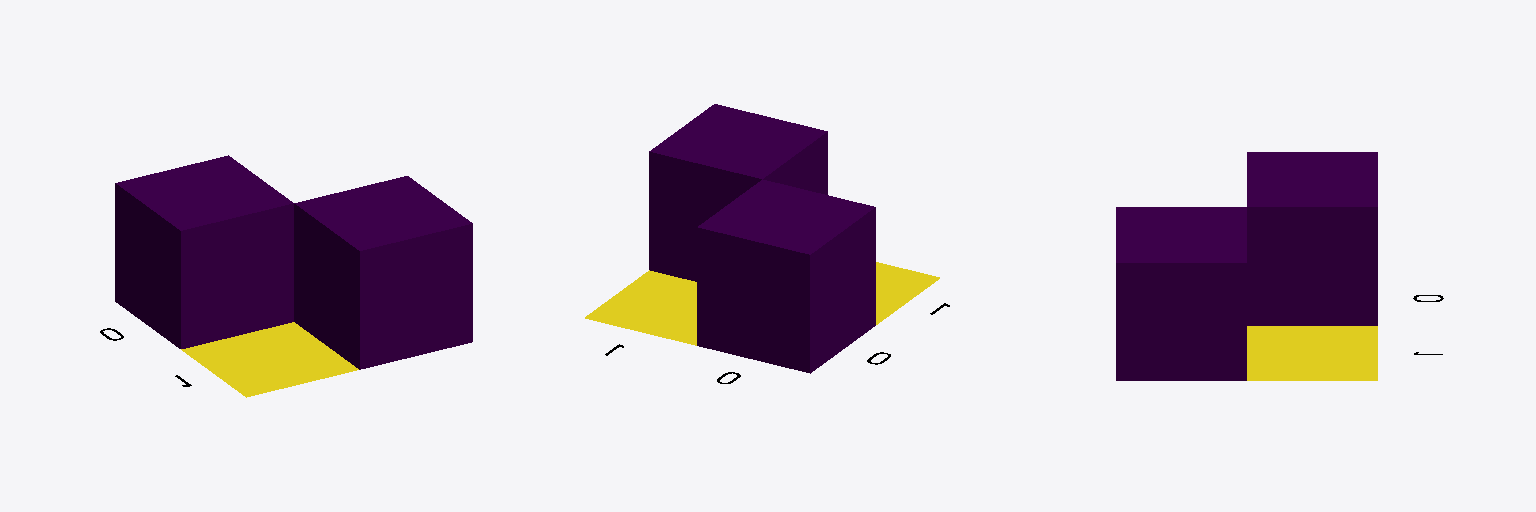
The picture shows the model from 3 angles: view 1: azimuth 30°, elevation 25°; view 2: azimuth 150°, elevation 25°; view 3: azimuth 270°, elevation 25°; orthographic projection.
Visible parts, largest first — view 1: Object(2,2)[length_1], Object(1,1)[length_1], Object(1,2)[length_0]; view 2: Object(1,1)[length_1], Object(2,2)[length_1], Object(2,1)[length_0], Object(1,2)[length_0]; view 3: Object(1,1)[length_1], Object(2,2)[length_1], Object(2,1)[length_0].
Part boxes in pixels (bbox=[...]): Object(2,2)[length_1]: bbox=[294, 176, 472, 369]; Object(1,1)[length_1]: bbox=[115, 155, 293, 348]; Object(1,2)[length_0]: bbox=[181, 322, 358, 397]; Object(1,1)[length_1]: bbox=[697, 179, 875, 373]; Object(2,2)[length_1]: bbox=[649, 104, 827, 281]; Object(2,1)[length_0]: bbox=[585, 270, 696, 345]; Object(1,2)[length_0]: bbox=[876, 262, 939, 324]; Object(1,1)[length_1]: bbox=[1247, 152, 1377, 325]; Object(2,2)[length_1]: bbox=[1116, 207, 1246, 380]; Object(2,1)[length_0]: bbox=[1247, 326, 1377, 380].
Bounding box in the file's own units: 2.38 × 1 × 2.5.